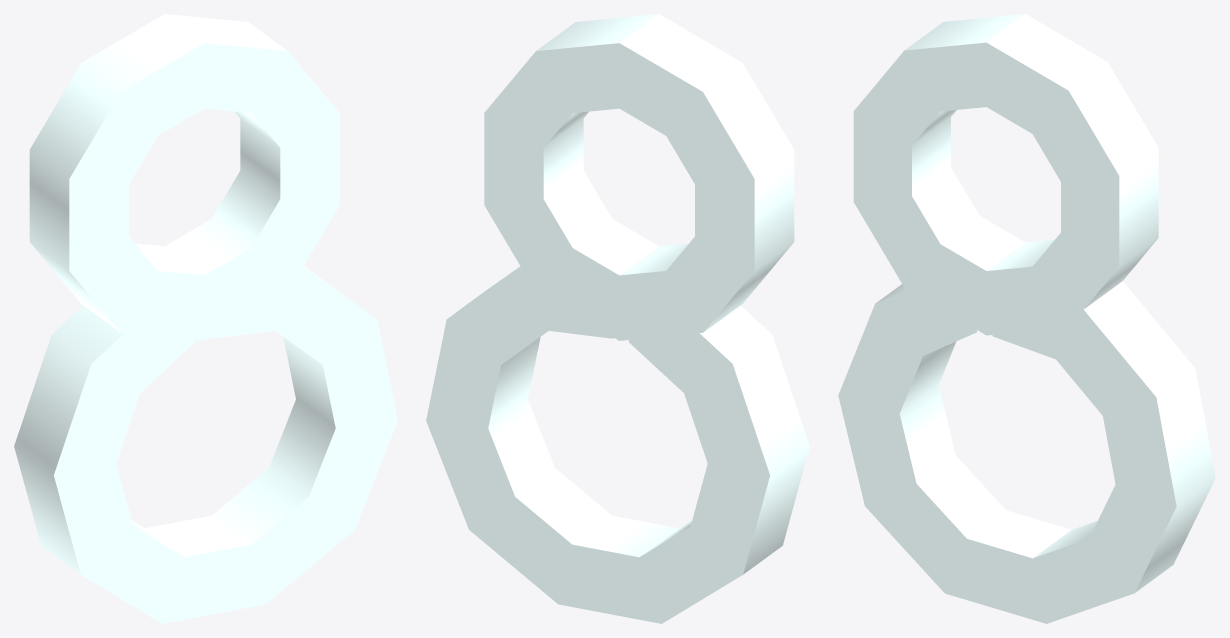
The picture shows the model from 3 angles, left to right: view 1: azimuth 30°, elevation 25°; view 2: azimuth 150°, elevation 25°; view 3: azimuth 330°, elevation 25°; orthographic projection.
Visible parts, largest first — view 1: wall_1_1_1_49_55.001; view 2: wall_1_1_1_49_55.001; view 3: wall_1_1_1_49_55.001.
Boxes of the visible parts, x1=… form: wall_1_1_1_49_55.001: x1=14, y1=14, x2=397, y2=623; wall_1_1_1_49_55.001: x1=426, y1=14, x2=809, y2=623; wall_1_1_1_49_55.001: x1=838, y1=14, x2=1215, y2=623.
Size of the model in its own units: 3.52 by 5.63 by 0.7034.
